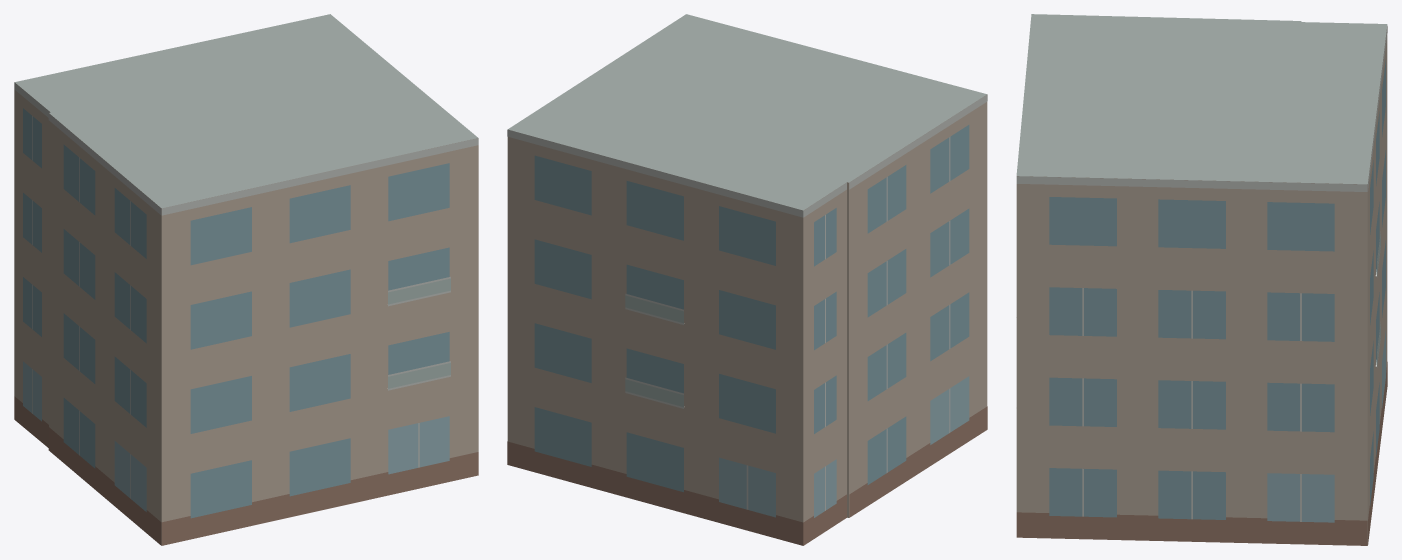
The model's file is survey-upis-32760004.glb.
3 views of the same model, side by side, from view 1: azimuth 30°, elevation 25°; view 2: azimuth 150°, elevation 25°; view 3: azimuth 270°, elevation 25° (orthographic). The views are drawn at different scales.
Parts seen in each view (by area): view 1: survey-upis-32760004.tmp; view 2: survey-upis-32760004.tmp; view 3: survey-upis-32760004.tmp.
Part boxes in pixels (<box>): survey-upis-32760004.tmp: <box>14,14,478,545</box>; survey-upis-32760004.tmp: <box>507,14,987,545</box>; survey-upis-32760004.tmp: <box>1016,14,1387,545</box>.
Size of the model in its own units: 11.48 by 11.35 by 10.57.
